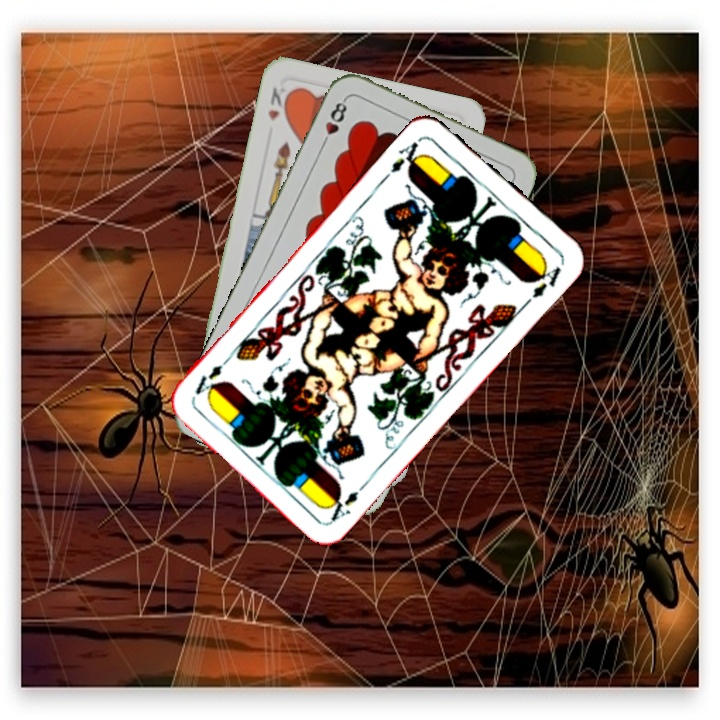EA: (323, 477, 371, 525), (386, 134, 427, 176)
H8: (317, 95, 350, 150)
HK: (264, 83, 293, 123)
